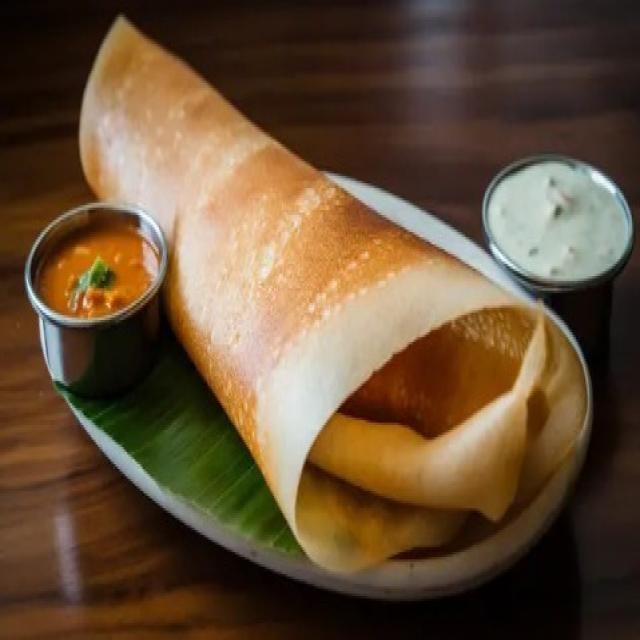DOSA: (76, 18, 594, 572)
SAMBAR: (25, 203, 167, 391)
WHITE CHUTNEY: (482, 161, 632, 283)
